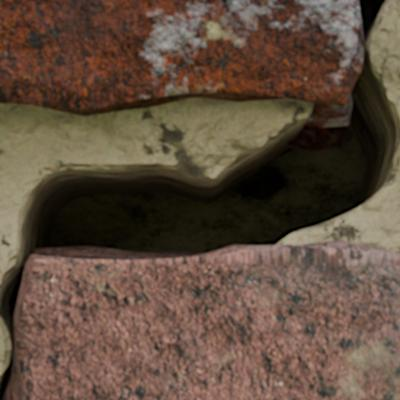brick: (10, 240, 399, 399), (0, 0, 364, 115)
crack: (0, 0, 399, 399)
